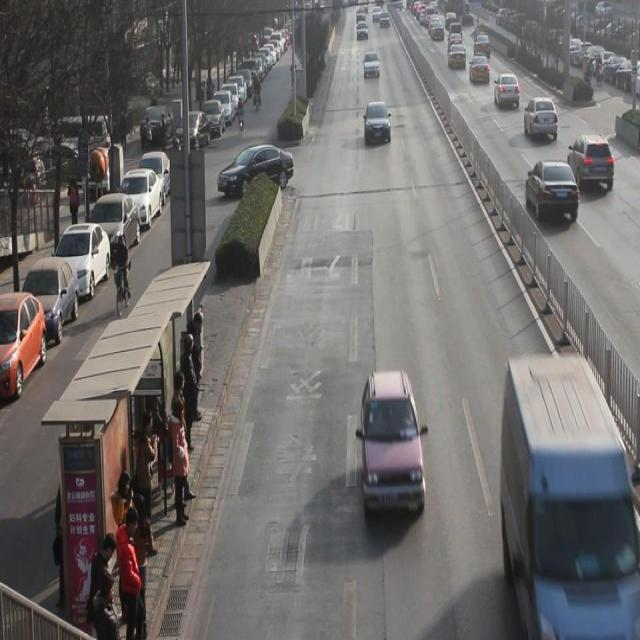car: (362, 368, 426, 516), (218, 146, 296, 200), (526, 161, 580, 222), (566, 132, 614, 190), (525, 96, 559, 142), (364, 100, 391, 146), (494, 73, 521, 110), (468, 51, 491, 86), (449, 39, 467, 72), (474, 30, 491, 59), (363, 50, 380, 78), (431, 21, 445, 43), (449, 22, 463, 40), (356, 21, 368, 42)
truck: (500, 359, 640, 640)
